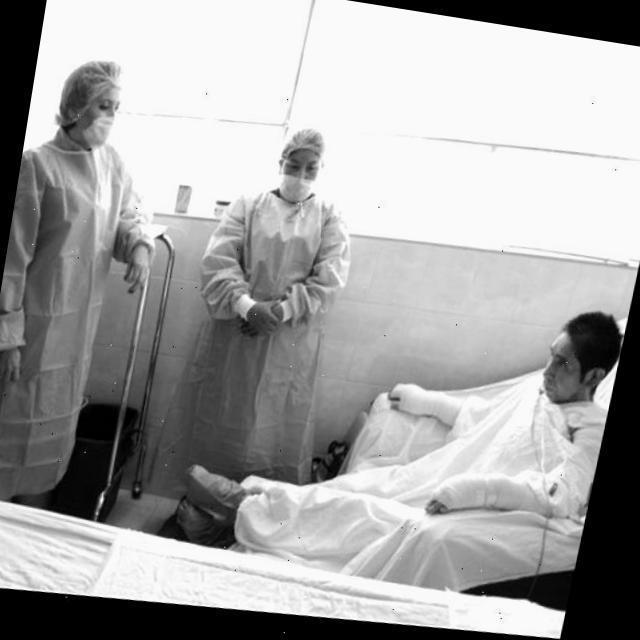gloves: (65, 62, 134, 105), (280, 122, 329, 156)
no_apron: (244, 290, 296, 335), (128, 243, 158, 307), (5, 332, 44, 381)
no_hairnet: (538, 361, 578, 402)
